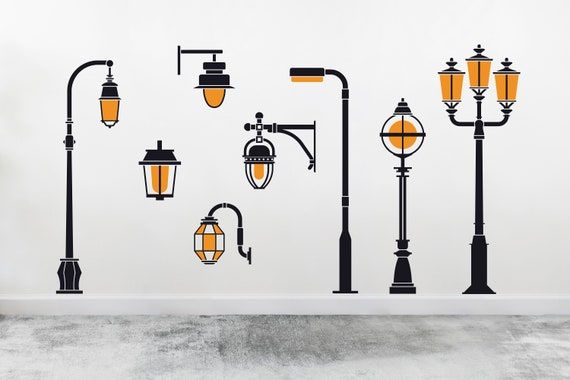Lamp: (434, 43, 523, 295), (286, 63, 370, 296), (53, 58, 118, 297), (372, 99, 436, 294)
